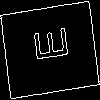E: (25, 24, 68, 65)
